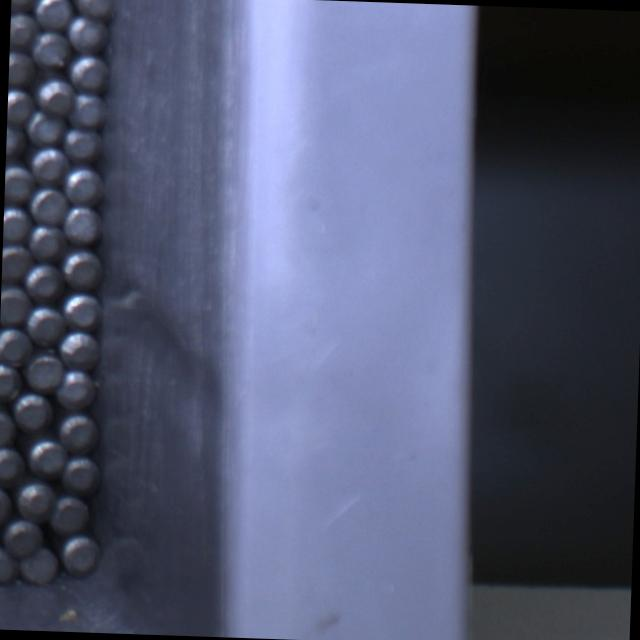tool: (61, 534, 102, 574), (57, 329, 99, 368), (26, 436, 66, 476), (56, 368, 96, 408), (12, 391, 53, 430), (60, 249, 101, 288), (50, 494, 89, 533), (18, 546, 58, 584), (16, 481, 54, 521), (4, 517, 44, 555), (68, 54, 108, 92), (62, 206, 101, 244), (26, 306, 64, 345), (58, 412, 98, 449), (25, 352, 63, 390), (64, 167, 102, 205), (70, 16, 109, 53), (28, 186, 65, 224), (32, 31, 70, 68), (62, 290, 101, 326), (22, 262, 61, 298), (26, 117, 66, 150), (30, 147, 66, 182), (61, 459, 97, 494), (73, 98, 109, 132), (0, 286, 29, 324), (7, 94, 38, 129), (10, 8, 38, 46), (32, 0, 71, 27), (8, 52, 37, 88), (4, 162, 30, 202), (40, 85, 70, 118), (64, 132, 98, 161), (0, 444, 24, 482), (2, 207, 28, 241), (1, 247, 26, 281), (0, 333, 26, 365), (0, 360, 21, 397), (32, 227, 58, 256), (0, 543, 18, 583), (74, 0, 112, 15), (5, 130, 24, 158), (0, 407, 13, 447), (0, 486, 11, 527)
